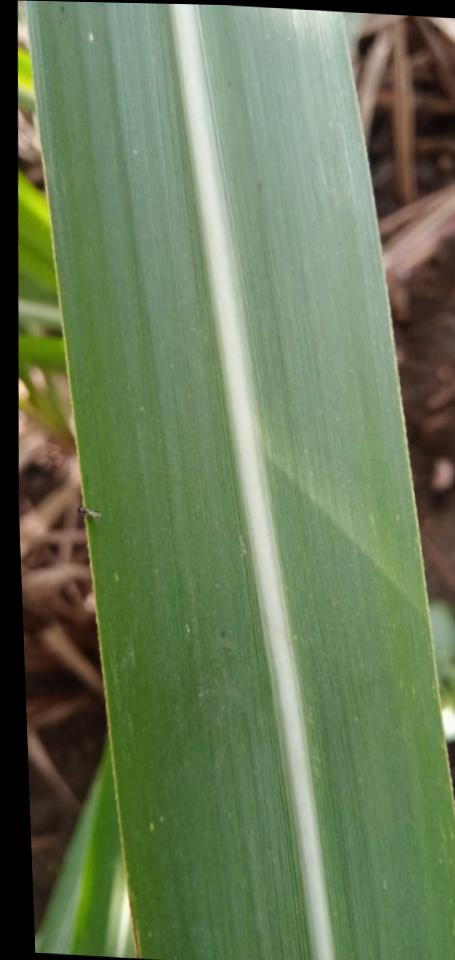Healthy: (26, 1, 455, 960)
